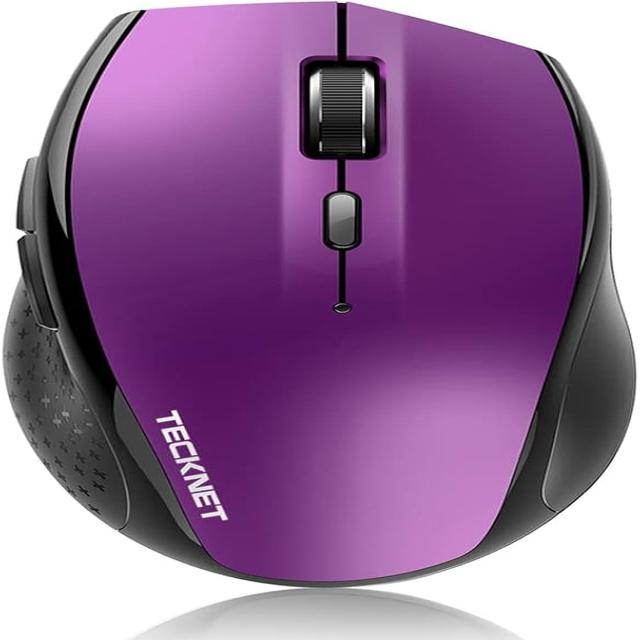mouse: (8, 8, 637, 594)
